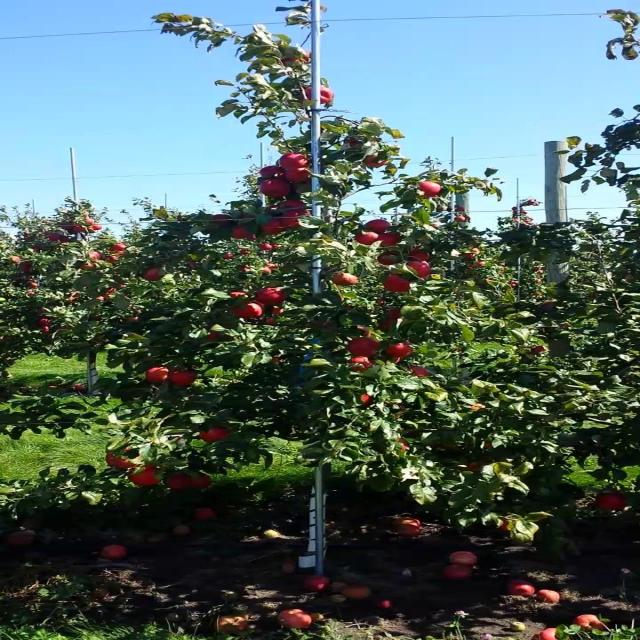apple: (127, 468, 162, 488), (262, 180, 292, 199), (348, 340, 382, 356), (106, 452, 135, 470), (596, 496, 629, 511), (383, 276, 412, 292), (255, 288, 284, 304), (305, 88, 334, 104), (284, 168, 313, 184), (234, 304, 263, 319), (170, 372, 199, 386), (205, 328, 235, 341), (148, 368, 171, 384), (404, 264, 434, 276), (362, 156, 391, 168), (284, 52, 313, 64), (205, 428, 228, 443), (461, 460, 489, 472), (383, 312, 404, 328), (262, 220, 284, 235), (284, 156, 311, 168), (284, 212, 311, 224), (284, 212, 304, 228), (355, 232, 377, 245), (419, 184, 441, 197), (170, 476, 192, 489), (390, 344, 412, 356), (369, 220, 391, 232), (383, 236, 405, 248), (191, 476, 213, 488), (333, 276, 359, 286), (383, 316, 402, 329), (262, 168, 284, 179), (284, 212, 311, 220), (212, 216, 233, 226), (355, 360, 372, 372), (284, 200, 306, 209), (148, 268, 164, 280), (355, 328, 372, 339), (412, 252, 432, 261), (234, 228, 249, 240), (397, 440, 411, 452), (383, 256, 398, 267), (205, 336, 235, 341), (468, 404, 485, 412), (412, 368, 428, 376), (269, 308, 284, 316), (355, 328, 370, 336), (348, 140, 361, 148), (504, 520, 512, 532), (362, 396, 370, 405), (234, 292, 247, 297), (276, 308, 284, 314)
